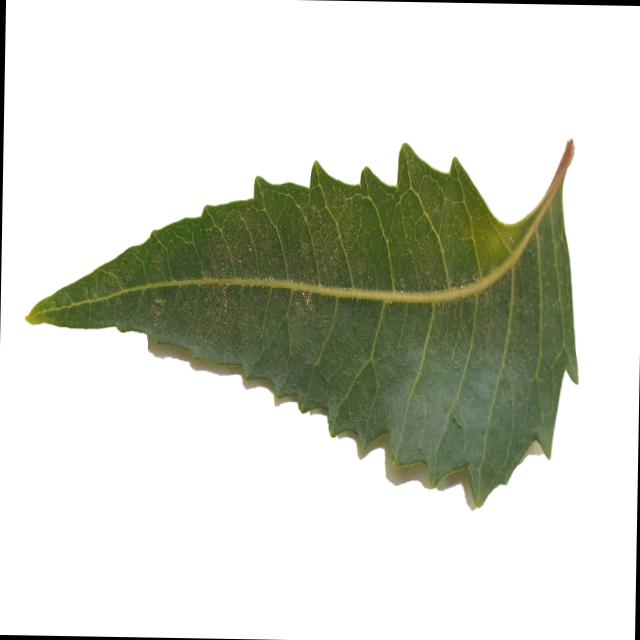Medicinal-Neem: (27, 119, 583, 506)
